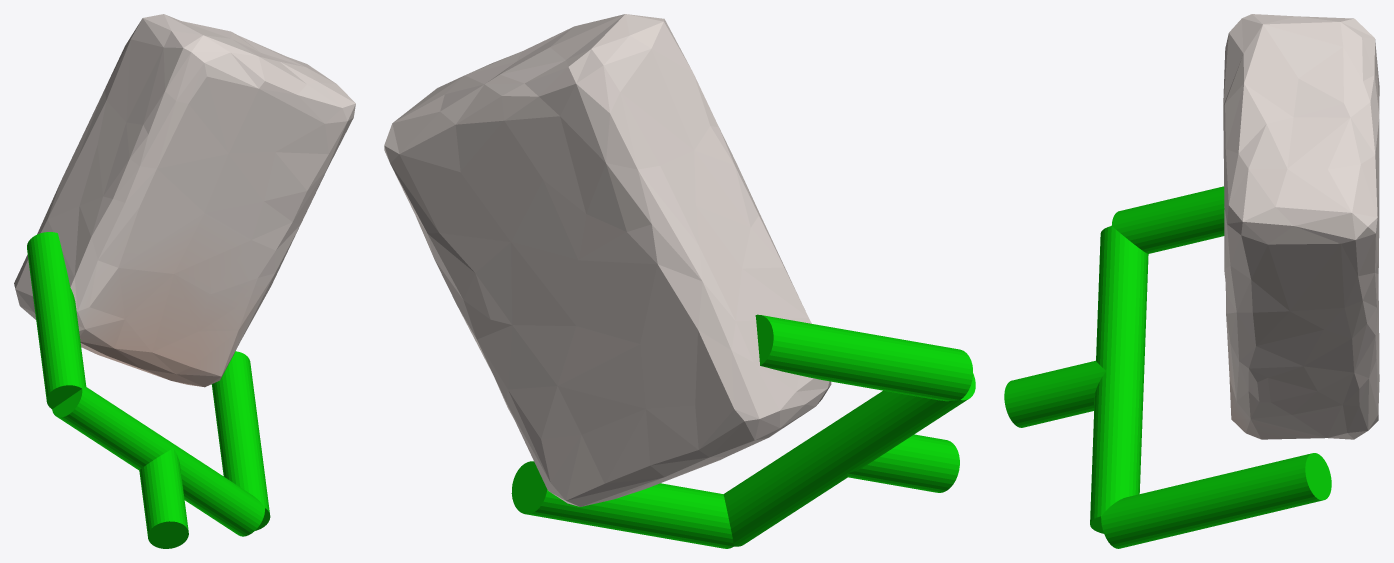
The model's file is round_001_trial_001.obj.
3 renders of one model, left to right at view 1: azimuth 30°, elevation 25°; view 2: azimuth 150°, elevation 25°; view 3: azimuth 270°, elevation 25°, orthographic. The views are drawn at different scales.
Parts seen in each view (by area): view 1: geometry_0, geometry_1; view 2: geometry_0, geometry_1; view 3: geometry_0, geometry_1.
Boxes of the visible parts, bbox=[...] form: geometry_0: bbox=[14, 14, 355, 387]; geometry_1: bbox=[27, 232, 270, 548]; geometry_0: bbox=[384, 14, 831, 506]; geometry_1: bbox=[511, 314, 975, 548]; geometry_0: bbox=[1223, 14, 1379, 439]; geometry_1: bbox=[1004, 186, 1331, 548].
Bounding box in the file's own units: 0.1 × 0.1204 × 0.0772.
